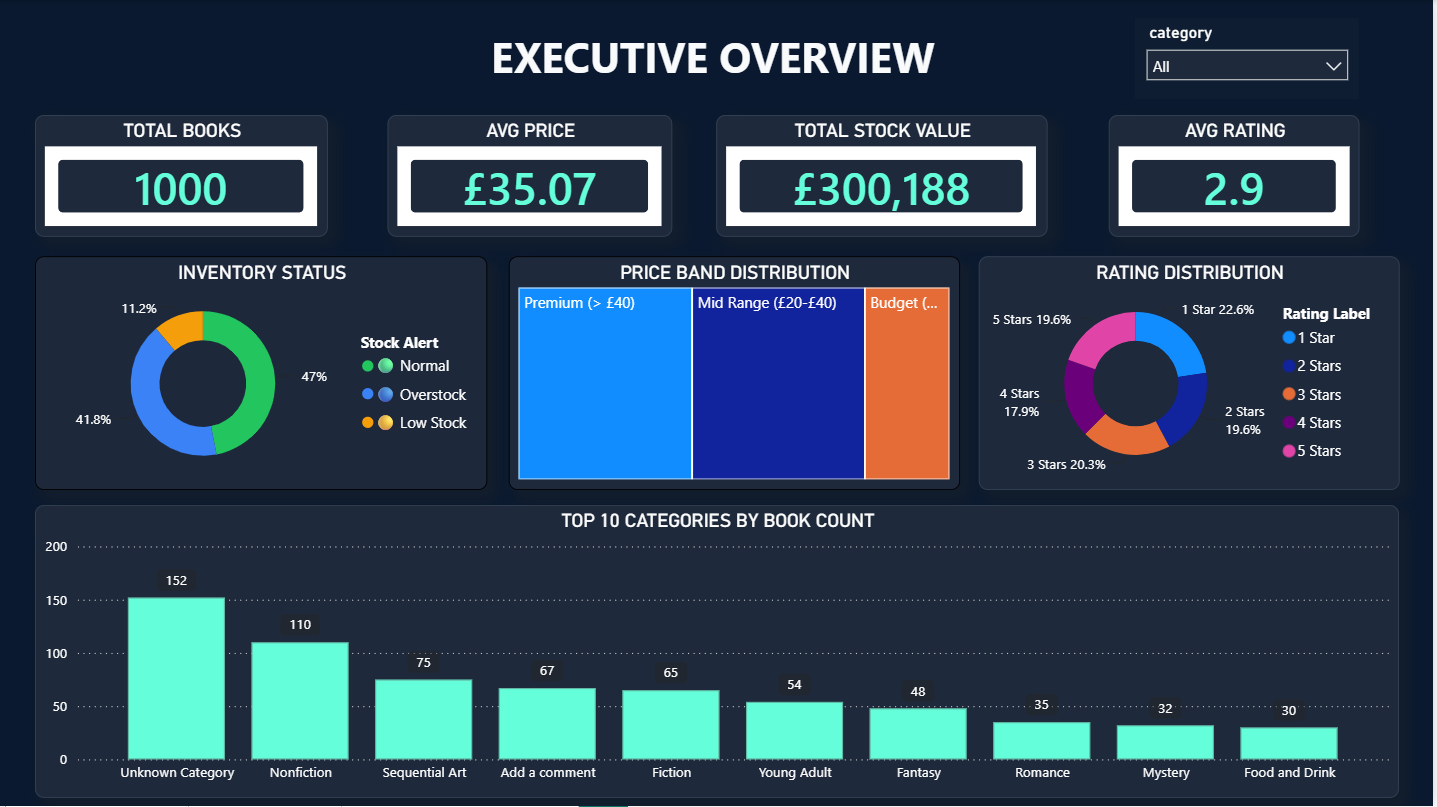

Layout of this report page (visuals, bound fields, positions):
{"tool":"powerbi","page":{"name":"Executive Overview","canvas":[1280,720],"ordinal":0},"visuals":[{"type":"textbox","box":[423.5,20.5,434.4,61.5],"z":0},{"type":"cardVisual","title":"TOTAL BOOKS","fields":{"Data":["_Measures.Total Books"]},"box":[31.4,102.9,261.4,108.6],"z":1000},{"type":"cardVisual","title":"AVG PRICE","fields":{"Data":["_Measures.Avg Price"]},"box":[345.7,102.9,254.3,108.6],"z":2000},{"type":"cardVisual","title":"TOTAL STOCK VALUE","fields":{"Data":["_Measures.Total Stock Value"]},"box":[640,102.9,295.7,108.6],"z":3000},{"type":"cardVisual","title":"AVG RATING","fields":{"Data":["_Measures.Avg Rating"]},"box":[990,102.9,224.3,108.6],"z":4000},{"type":"clusteredColumnChart","title":"TOP 10 CATEGORIES BY BOOK COUNT","fields":{"Category":["public books_catalog.category"],"Y":["_Measures.Total Books"]},"box":[31.4,451.4,1218.6,261.4],"z":5000},{"type":"donutChart","title":"RATING DISTRIBUTION","fields":{"Category":["public price_history.Rating Label"],"Y":["public price_history.Books By Rating"]},"box":[874.3,228.6,375.7,208.6],"z":6000},{"type":"slicer","fields":{"Values":["public books_catalog.category"]},"box":[1014.3,15.7,200,72.9],"z":7000},{"type":"donutChart","title":"INVENTORY STATUS","fields":{"Category":["public price_history.Stock Alert"],"Y":["public price_history.Products Count"]},"box":[31.4,228.6,404.3,208.6],"z":8000},{"type":"treemap","title":"PRICE BAND DISTRIBUTION","fields":{"Group":["public price_history.Price Band"],"Values":["public price_history.Products Count"]},"box":[454.3,228.6,402.9,208.6],"z":9000}]}

Visuals, with their boxes in screenshot pixels (x1, y1, x2, y2), scaled from the page's 1280x720 canvas onto the 1437x807 screenshot:
textbox: (left=475, top=23, right=963, bottom=92)
"TOTAL BOOKS" cardVisual: (left=35, top=115, right=329, bottom=237)
"AVG PRICE" cardVisual: (left=388, top=115, right=674, bottom=237)
"TOTAL STOCK VALUE" cardVisual: (left=718, top=115, right=1050, bottom=237)
"AVG RATING" cardVisual: (left=1111, top=115, right=1363, bottom=237)
"TOP 10 CATEGORIES BY BOOK COUNT" clusteredColumnChart: (left=35, top=506, right=1403, bottom=799)
"RATING DISTRIBUTION" donutChart: (left=982, top=256, right=1403, bottom=490)
slicer - public books_catalog.category: (left=1139, top=18, right=1363, bottom=99)
"INVENTORY STATUS" donutChart: (left=35, top=256, right=489, bottom=490)
"PRICE BAND DISTRIBUTION" treemap: (left=510, top=256, right=962, bottom=490)
